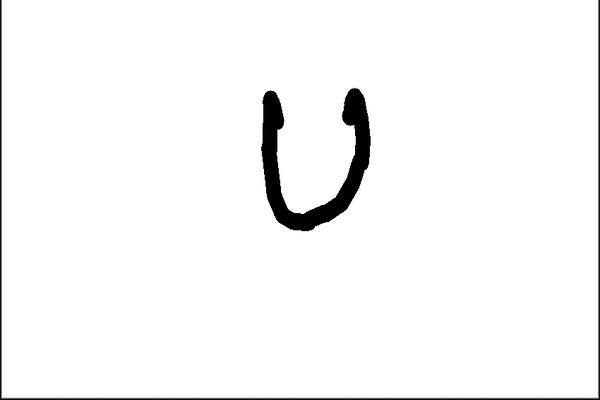U: (241, 76, 376, 236)
